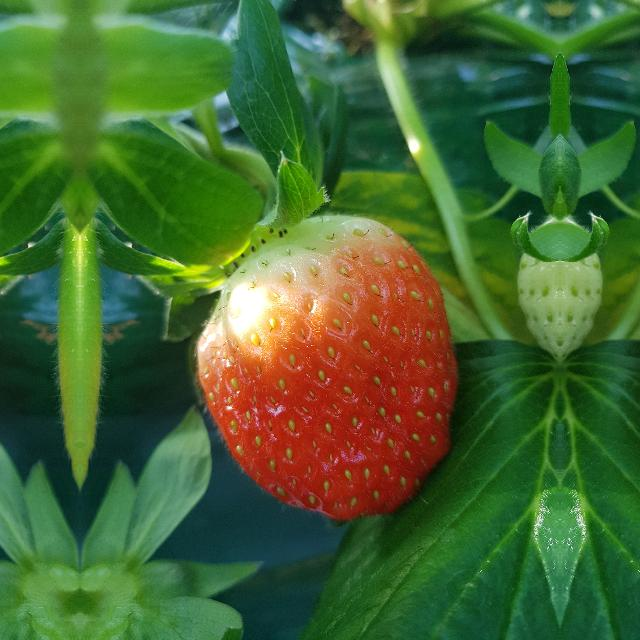Health_100: (193, 214, 459, 520)
